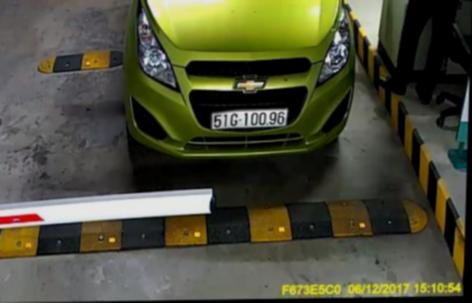License_Plate: (208, 107, 292, 129)
